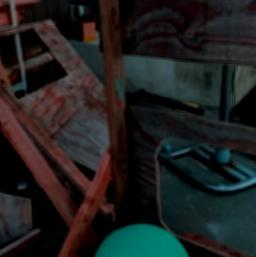algae: (88, 221, 194, 257)
